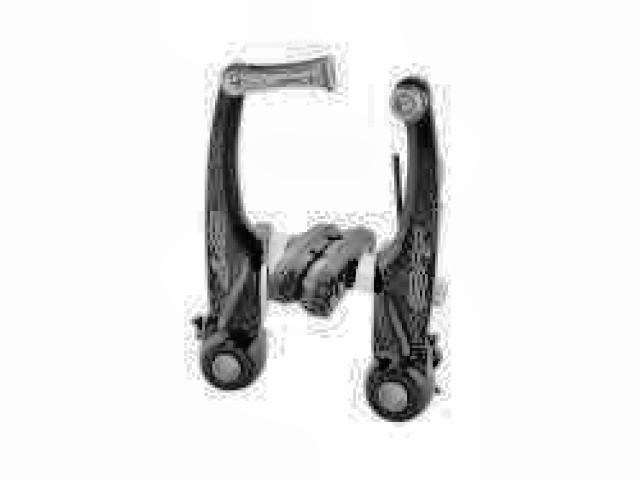rim_brake: (188, 50, 449, 426)
